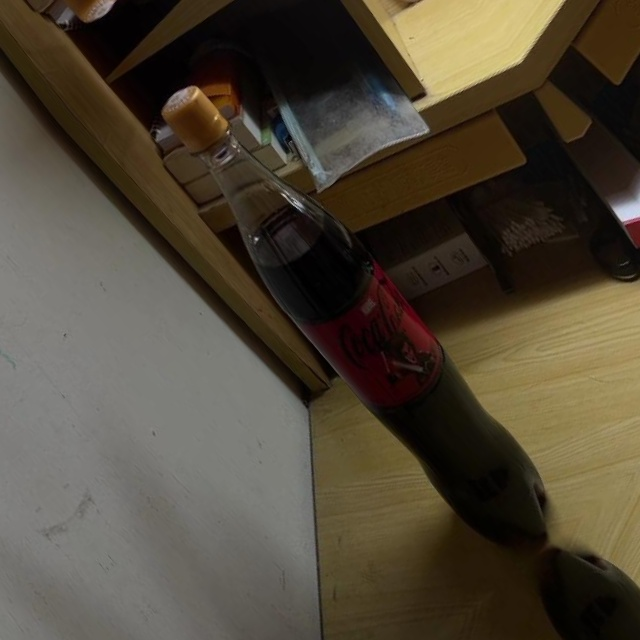Coca-Cola: (132, 65, 585, 578)
